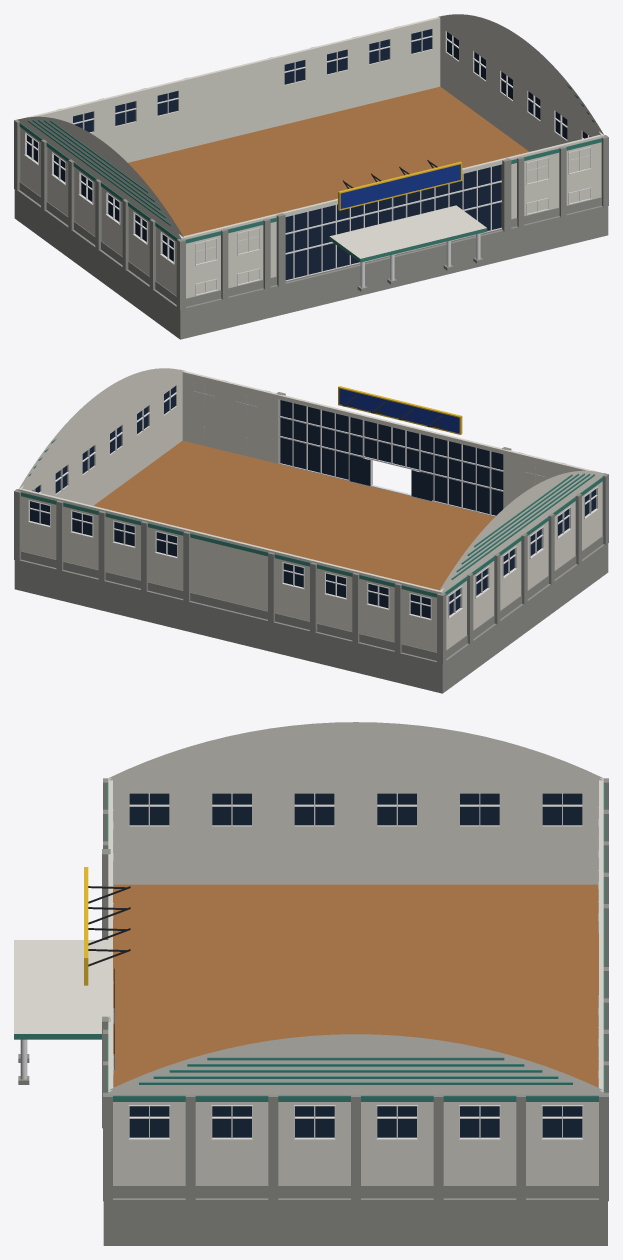
File: SM_Gym_Hall.fbx
3 renders of one model, top to bottom at view 1: azimuth 30°, elevation 25°; view 2: azimuth 150°, elevation 25°; view 3: azimuth 270°, elevation 25°, orthographic. The views are drawn at different scales.
Visible parts, largest first — view 1: SM_Gym_Hall; view 2: SM_Gym_Hall; view 3: SM_Gym_Hall.
Part boxes in pixels (<box>): SM_Gym_Hall: <box>14,14,608,339</box>; SM_Gym_Hall: <box>14,368,608,693</box>; SM_Gym_Hall: <box>14,722,608,1245</box>.
Bounding box in the file's own units: 60.84 × 18.5 × 48.02.
